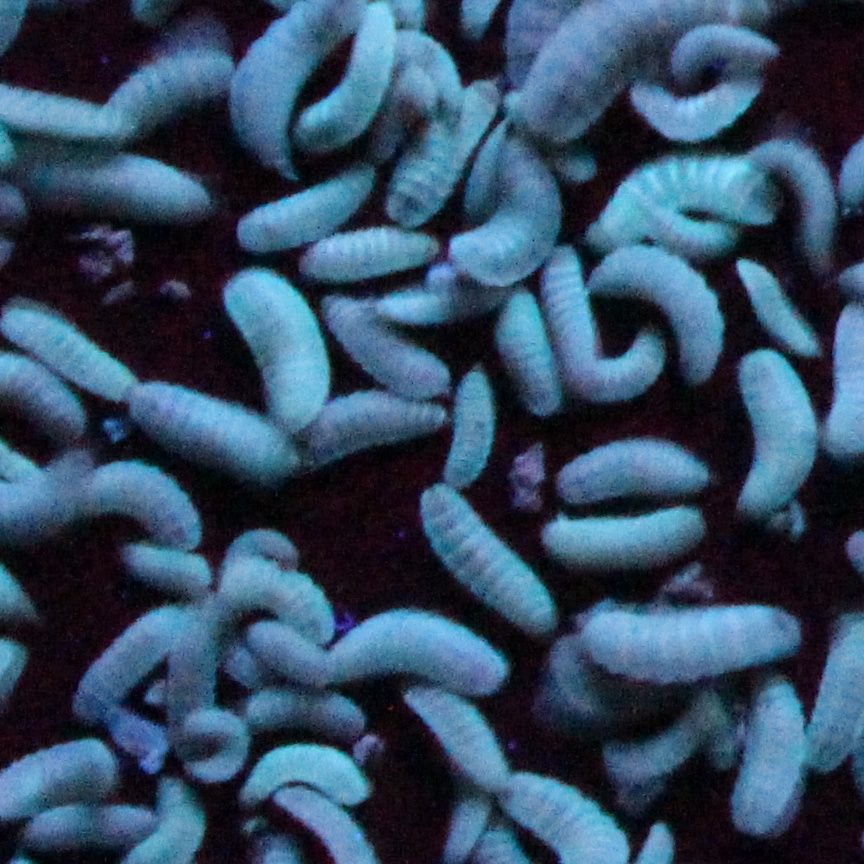larve: (412, 480, 564, 635), (586, 242, 734, 388), (215, 266, 338, 438), (579, 590, 805, 683), (310, 593, 510, 696), (728, 345, 823, 540), (388, 79, 507, 226), (125, 381, 310, 475), (528, 499, 720, 580), (399, 676, 523, 801), (228, 157, 377, 257), (751, 128, 853, 263), (302, 375, 455, 463), (69, 604, 179, 725), (527, 232, 608, 391), (551, 434, 717, 511), (618, 62, 758, 149), (231, 732, 379, 814), (731, 667, 800, 834), (730, 252, 825, 370), (297, 222, 435, 288), (443, 349, 500, 496), (661, 12, 780, 78), (115, 537, 218, 594)
